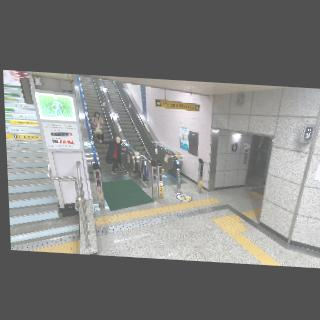normal: (96, 136, 131, 179), (90, 110, 105, 145)
